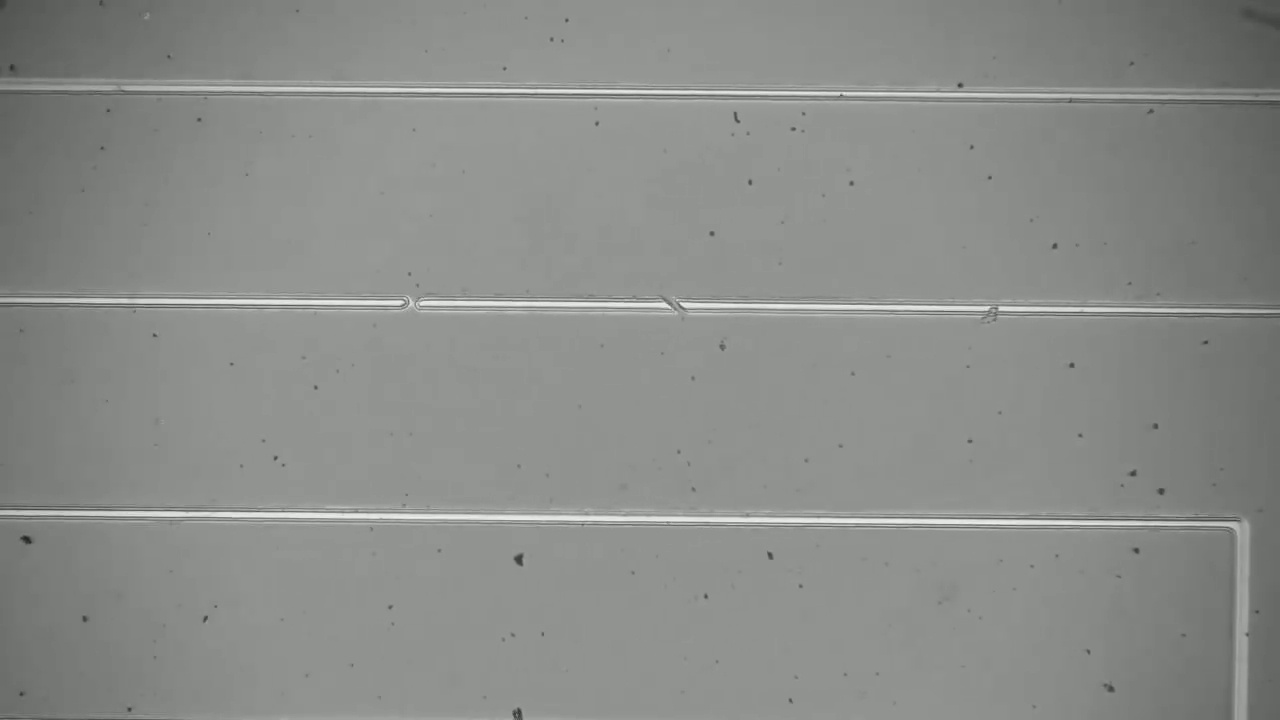open: (652, 281, 703, 325), (387, 284, 436, 325)
stains_enbedded: (971, 286, 1011, 335)
